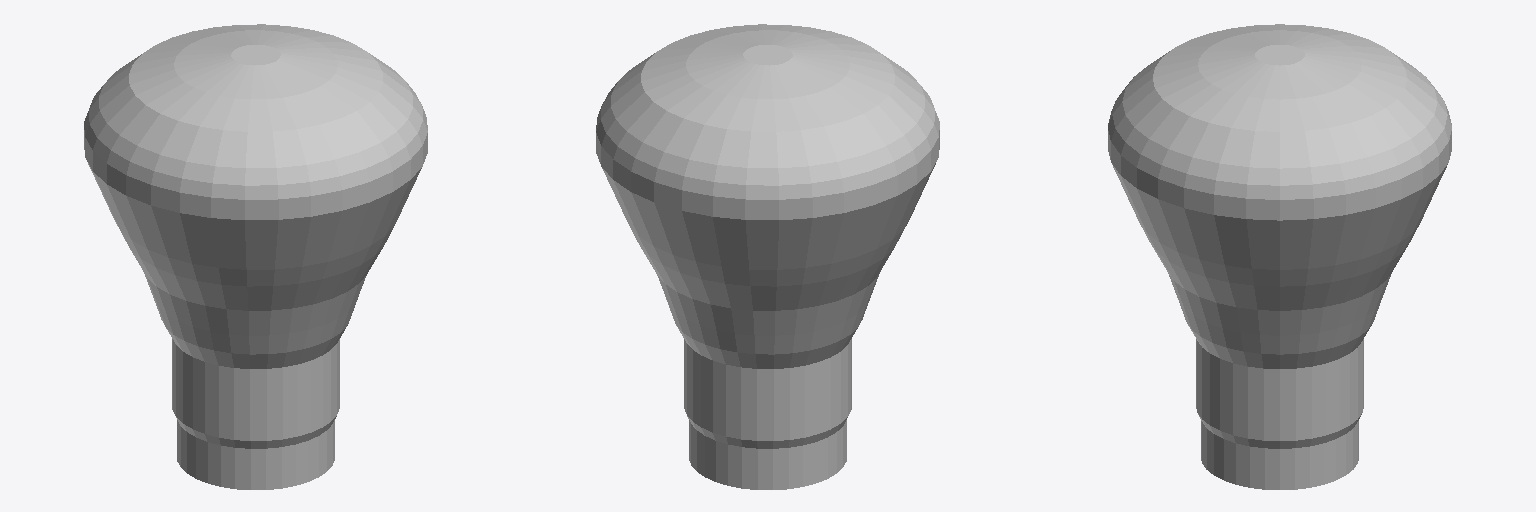
File: LightBulb.obj
3 renders of one model, left to right at view 1: azimuth 30°, elevation 25°; view 2: azimuth 150°, elevation 25°; view 3: azimuth 270°, elevation 25°, orthographic.
Parts seen in each view (by area): view 1: Circle; view 2: Circle; view 3: Circle.
Boxes of the visible parts, box(x1,y1,x2,y2) form: Circle: box(84, 24, 427, 489); Circle: box(596, 24, 939, 489); Circle: box(1108, 24, 1451, 489).
Size of the model in its own units: 4.35 by 5.59 by 4.35.